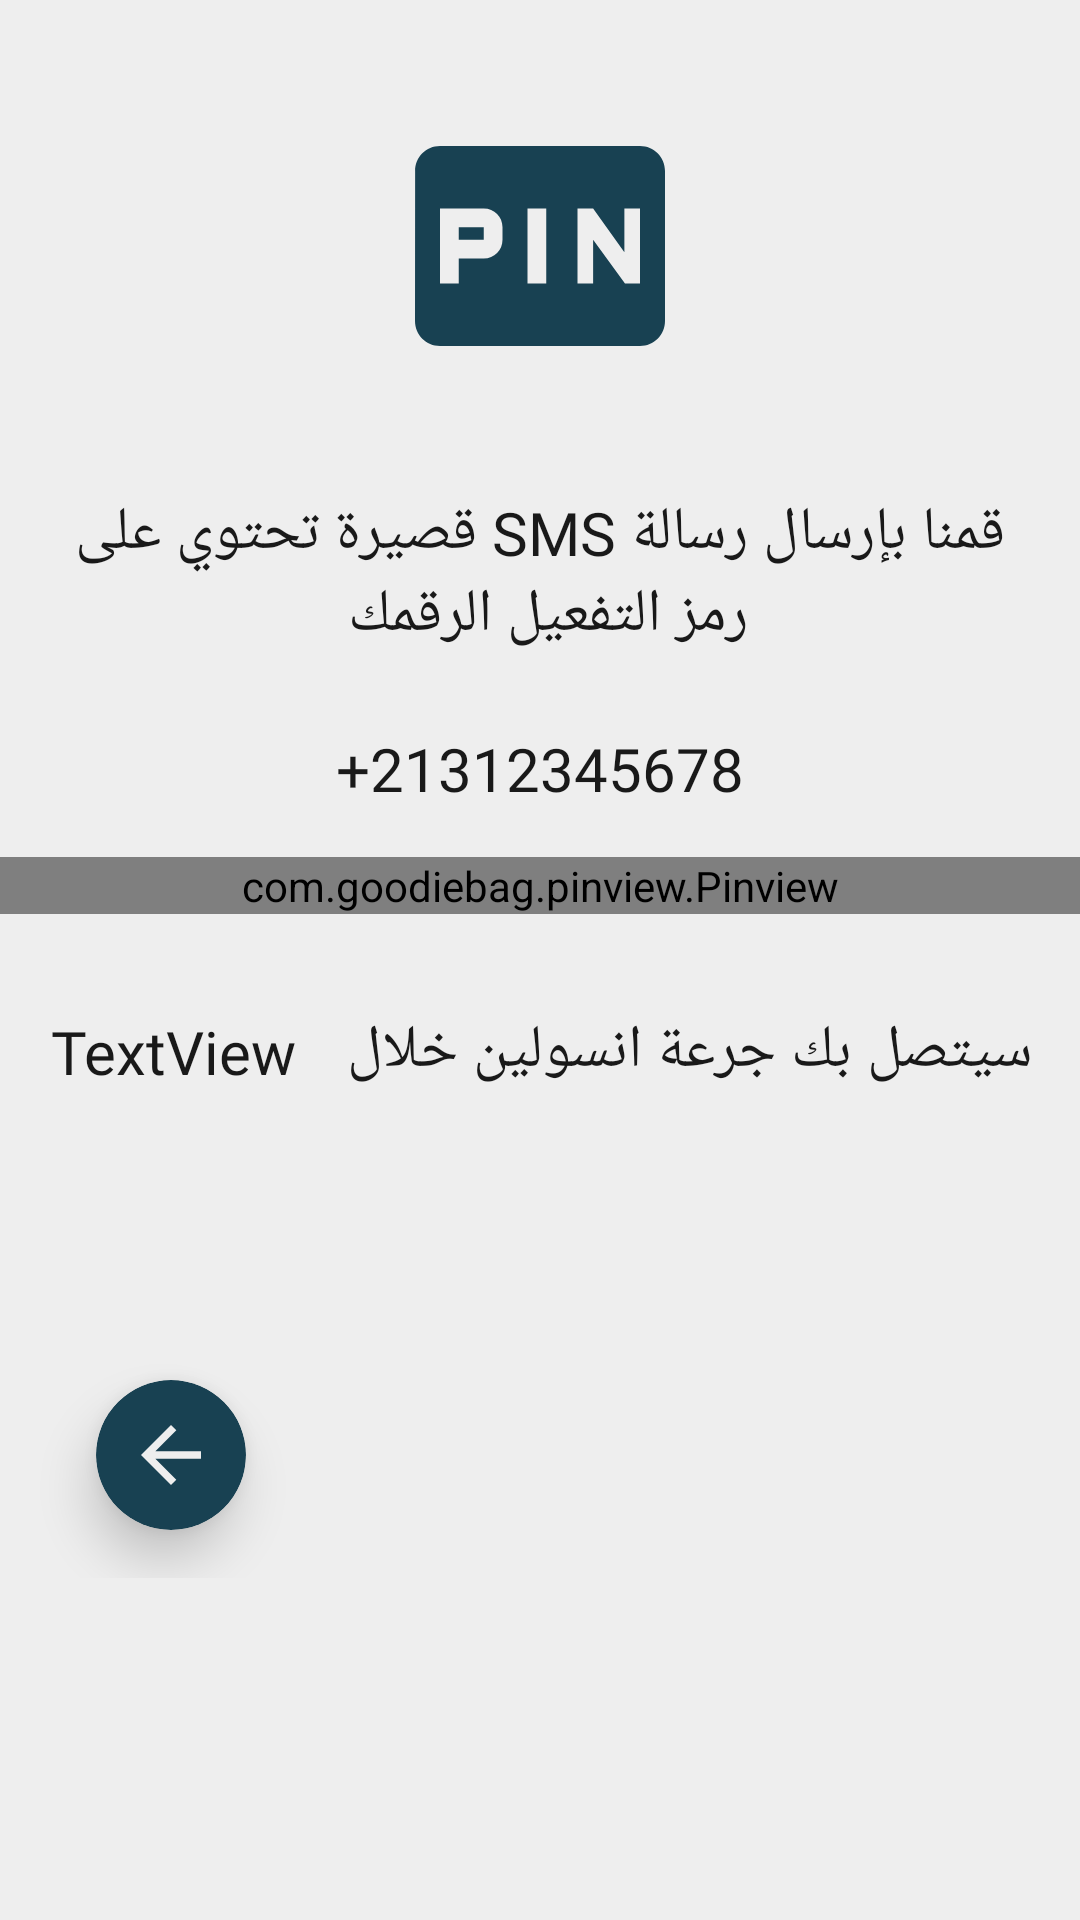

Locate icon controls on the screen. Image size 1080 x 1920, boxes as (x1, y1, x2, y2).
arrow back: (96, 1380, 246, 1530)
